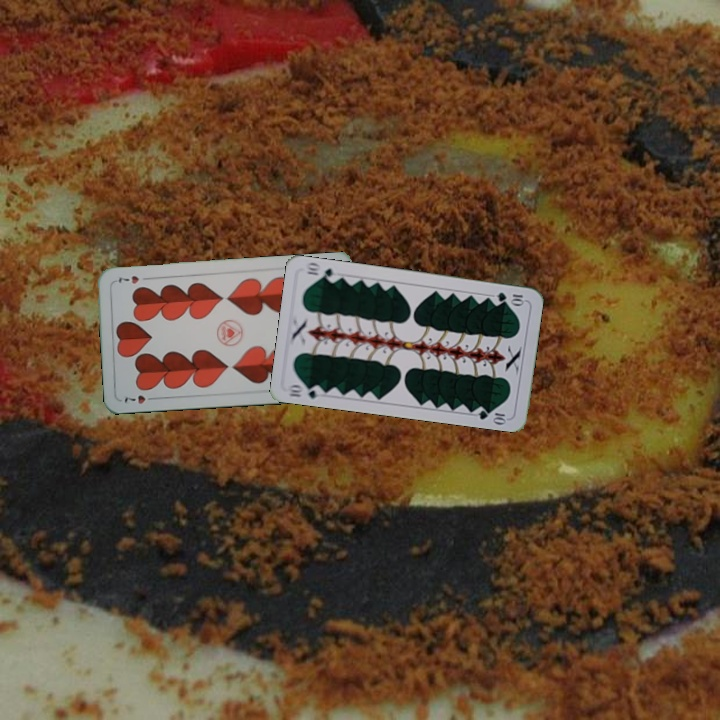G10: (284, 380, 326, 401), (493, 288, 527, 307)
H7: (120, 391, 159, 406)
